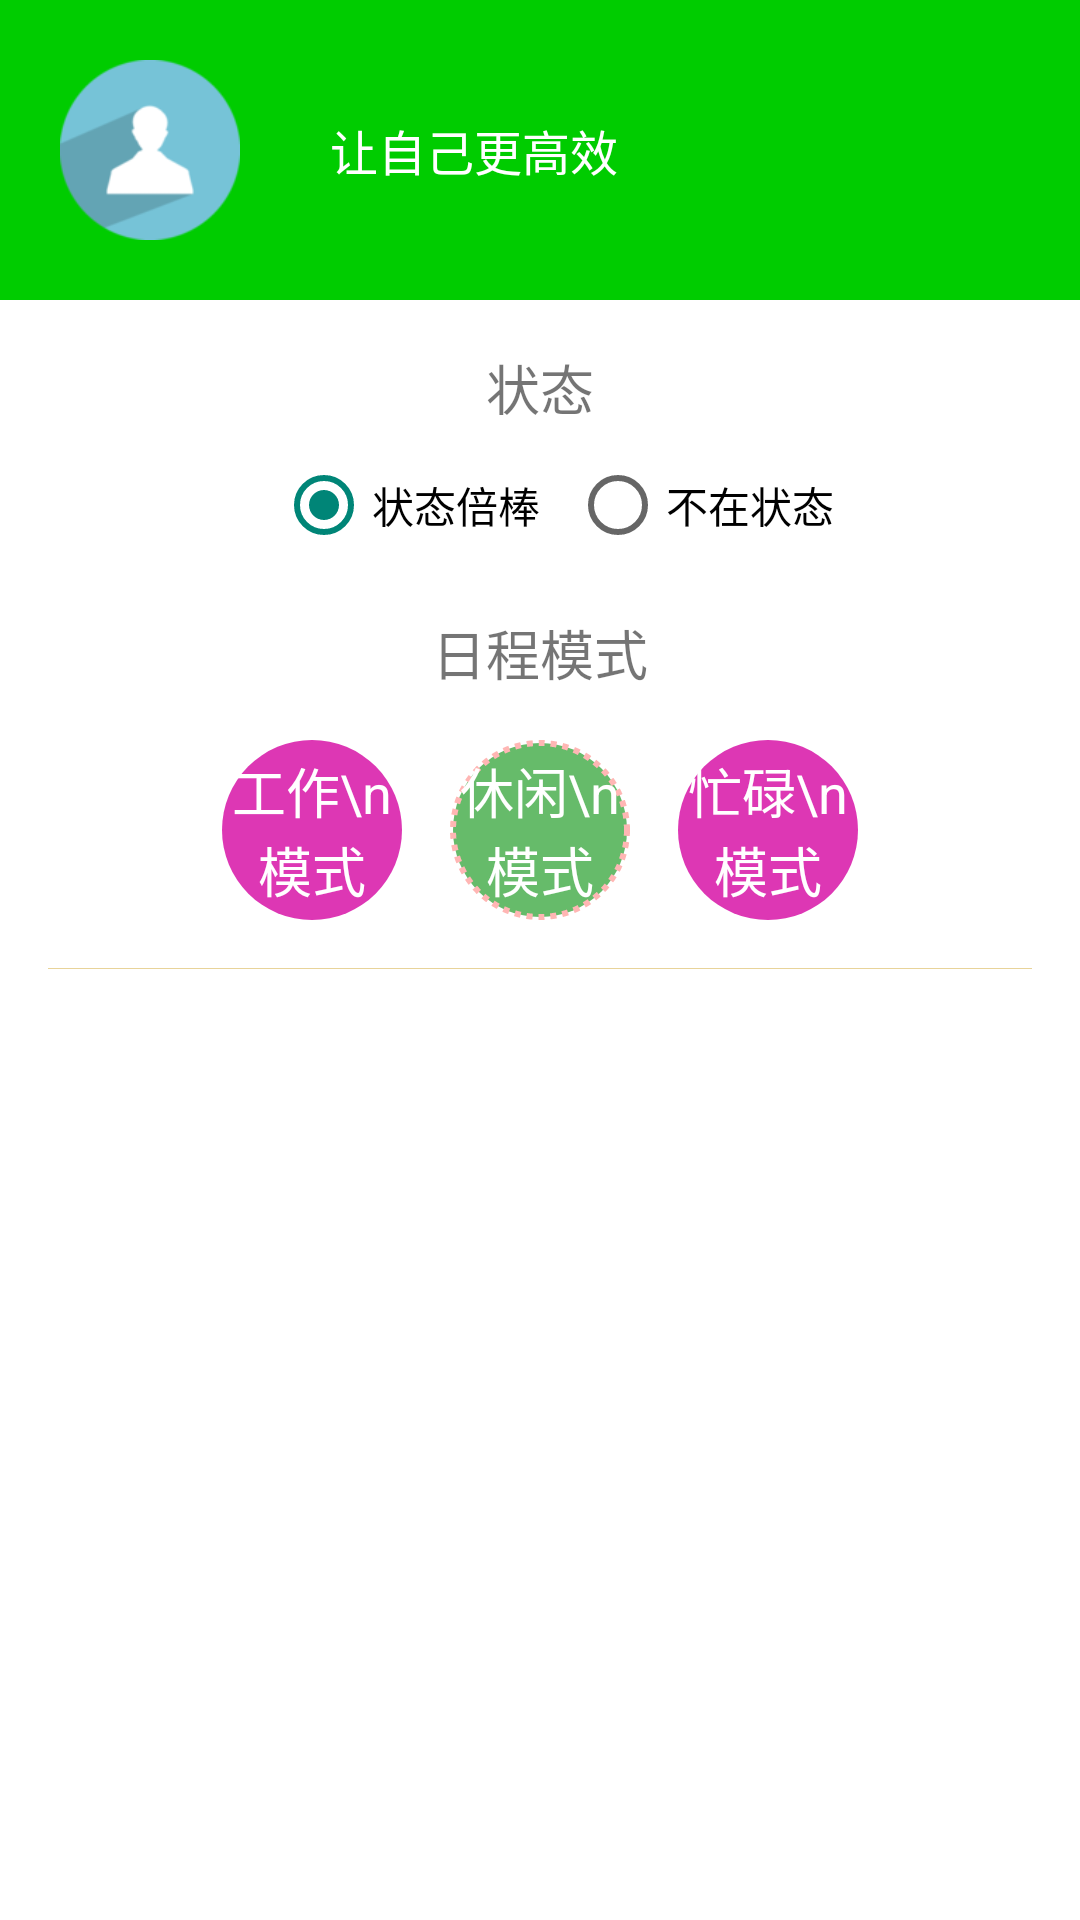

Named icons in this screenshot (1080x1920) and their centers, (x=x, y=y):
avater: (x=150, y=150)
